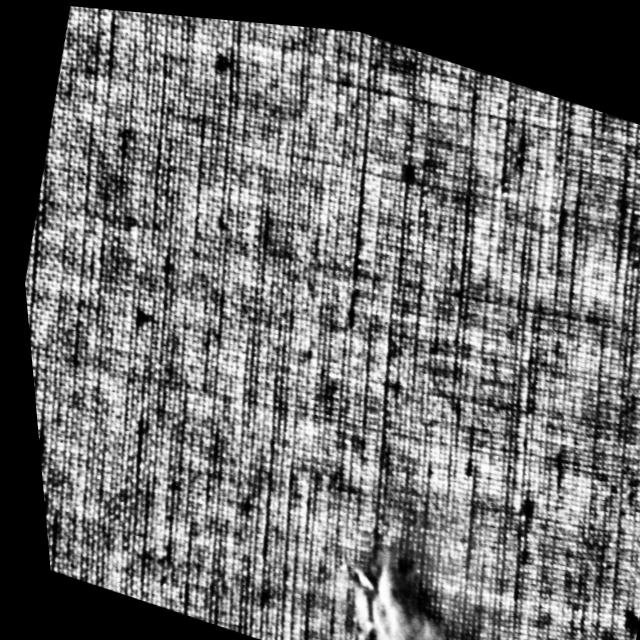Stitch: (317, 524, 454, 640)
